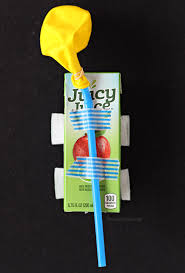Juice_Box: (65, 61, 121, 212)
